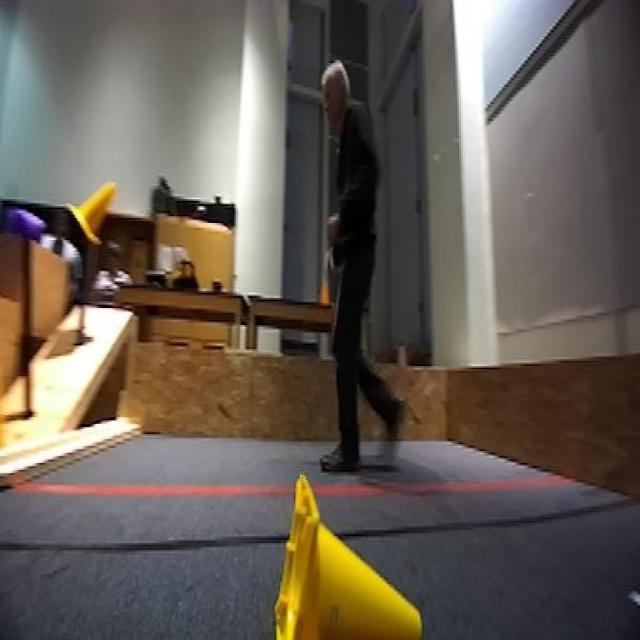frc_cone: (274, 470, 430, 640), (66, 177, 119, 250)
frc_cube: (6, 206, 44, 243)
